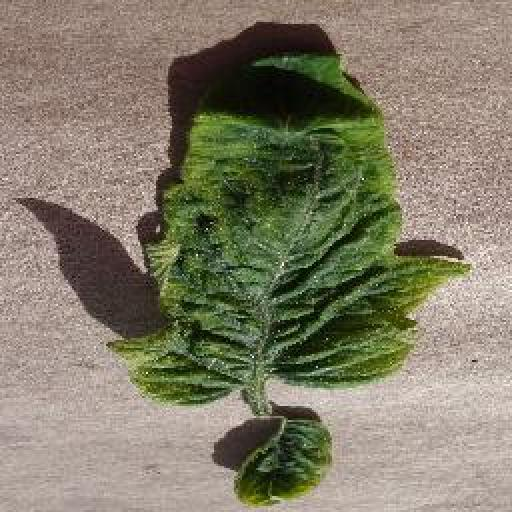Yellow Leaf Curl Virus: (109, 48, 471, 401), (233, 414, 336, 510)
